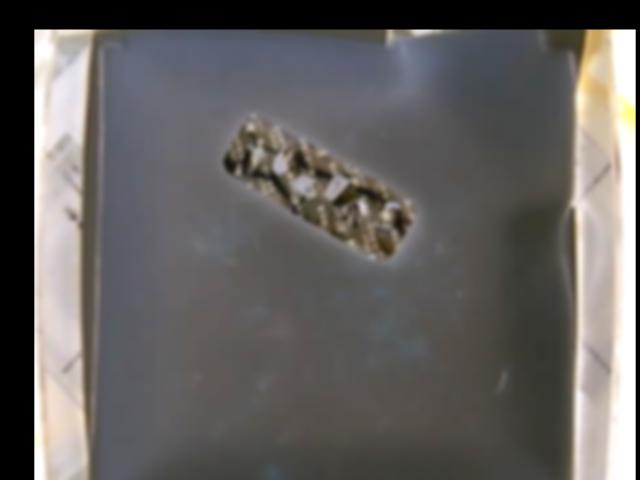Medicine: (224, 115, 416, 260)
